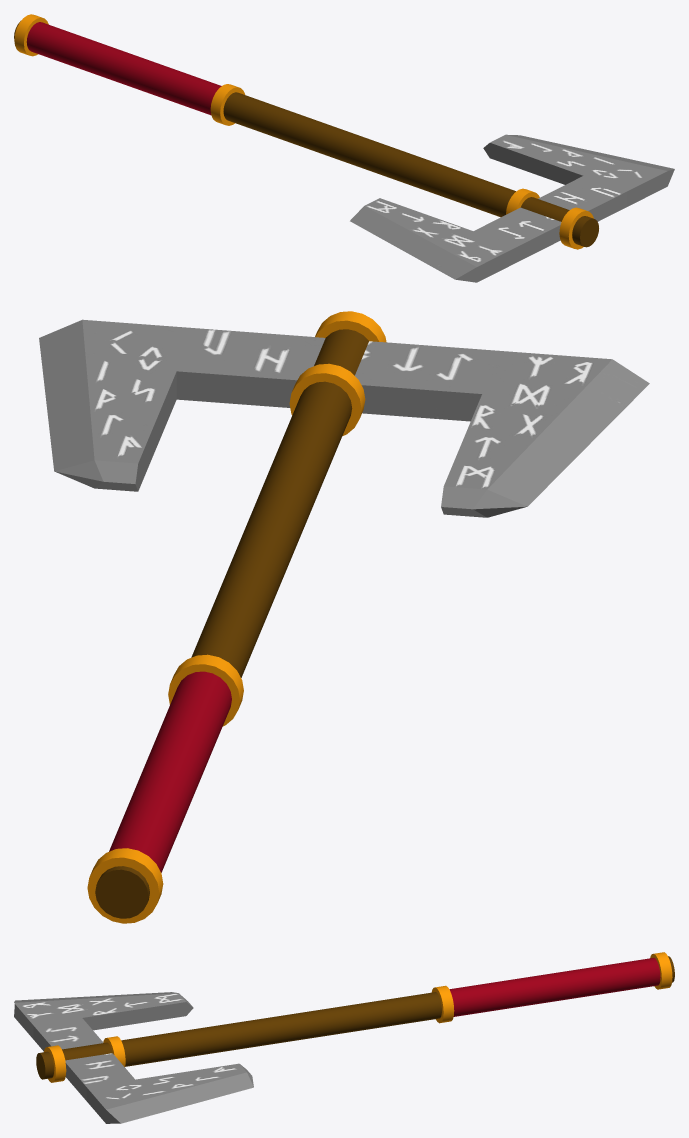
Rendered from M_Ascia.fbx.
3 renders of one model, top to bottom at view 1: azimuth 30°, elevation 25°; view 2: azimuth 150°, elevation 25°; view 3: azimuth 270°, elevation 25°, orthographic. The views are drawn at different scales.
Visible parts, largest first — view 1: AsciaBipenne; view 2: AsciaBipenne; view 3: AsciaBipenne.
Boxes of the visible parts, <box> form: AsciaBipenne: <box>14,14,674,282</box>; AsciaBipenne: <box>39,311,649,923</box>; AsciaBipenne: <box>14,952,674,1123</box>.
Bounding box in the file's own units: 3.78 × 0.3632 × 6.57.
